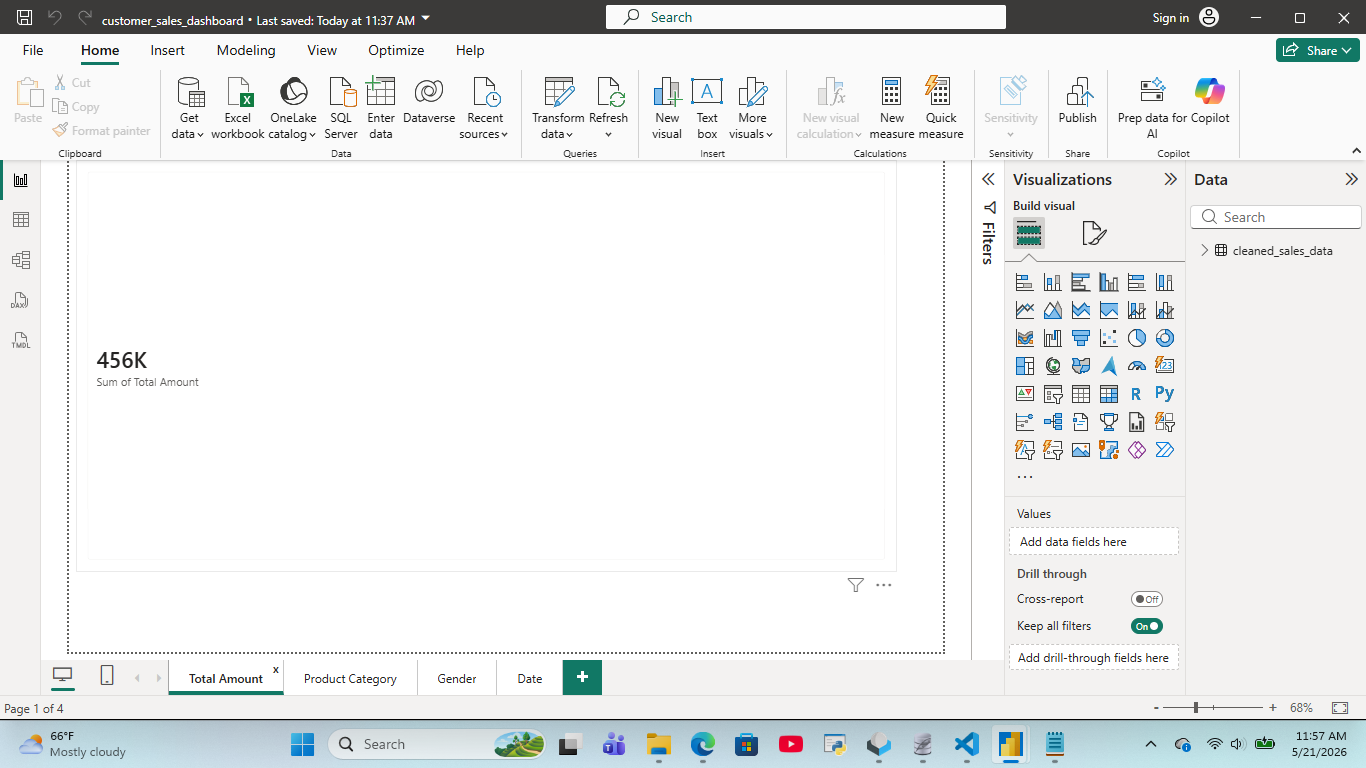

What the dashboard file says about the page in this screenshot:
{"tool":"powerbi","page":{"name":"Total Amount","canvas":[1280,720],"ordinal":1},"visuals":[{"type":"cardVisual","fields":{"Data":["Sum(cleaned_sales_data.Total Amount)"]},"box":[10.2,0,1201.5,602.9],"z":0}]}

Visuals, with their boxes on the page's 1280x720 design canvas (x1, y1, x2, y2). These are canvas units, not pixel positions in the 1366x768 screenshot, which may show the page scaled, cropped or inside an application window:
cardVisual - Sum(cleaned_sales_data.Total Amount): <box>10,0,1212,603</box>
